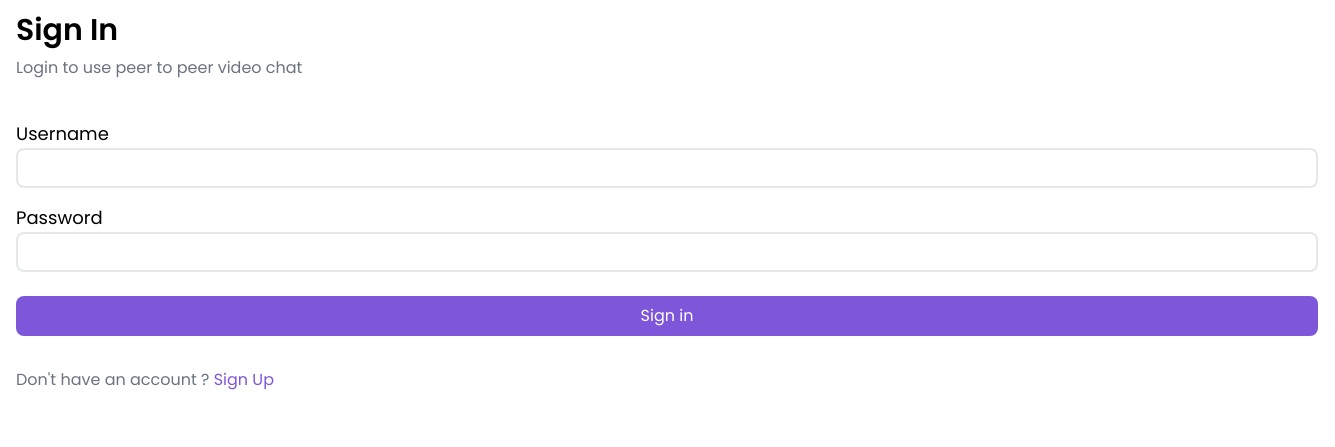
Login form › should render correct error on no username input
Click the button "Sign in": (667, 316) x1=16 y1=296 x2=1318 y2=336
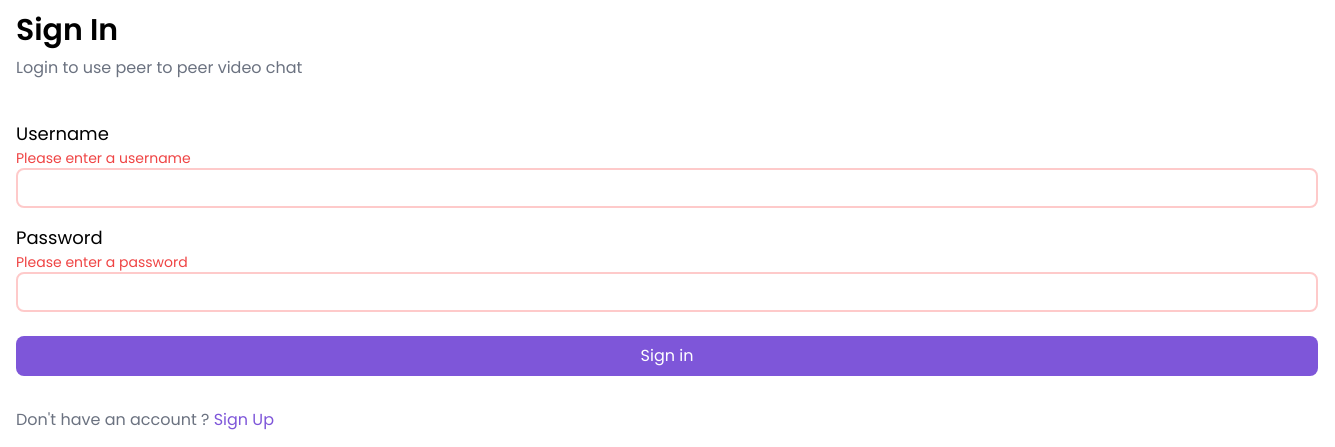
expect the text "Please enter a username" is shown: met, box x1=16 y1=148 x2=191 y2=168
